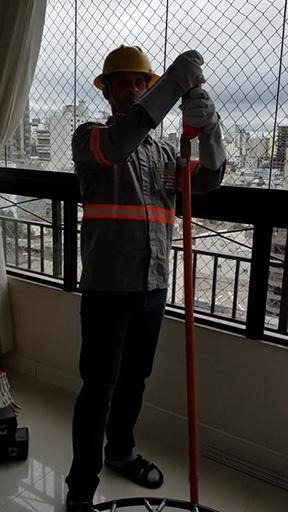Vara_Manobra: (179, 135, 200, 512)
